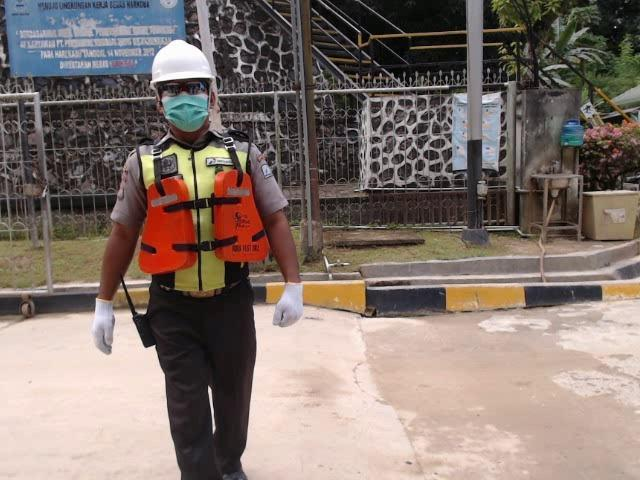vest: (138, 165, 271, 275)
